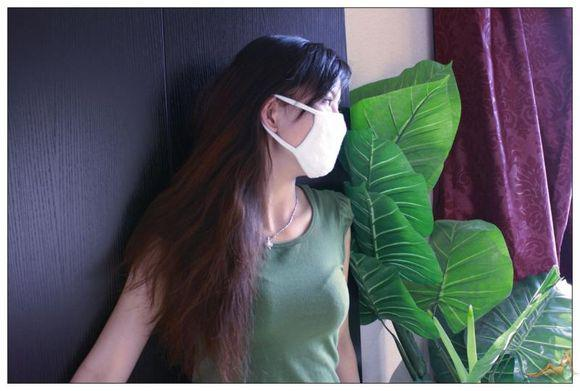OK: (263, 81, 348, 177)
